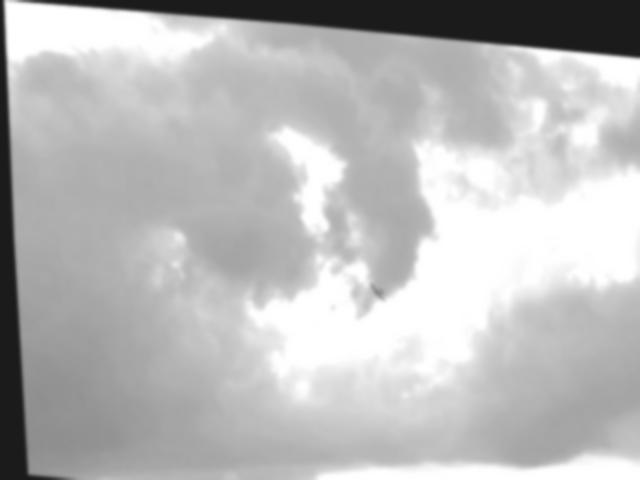hedef: (358, 262, 391, 307)
